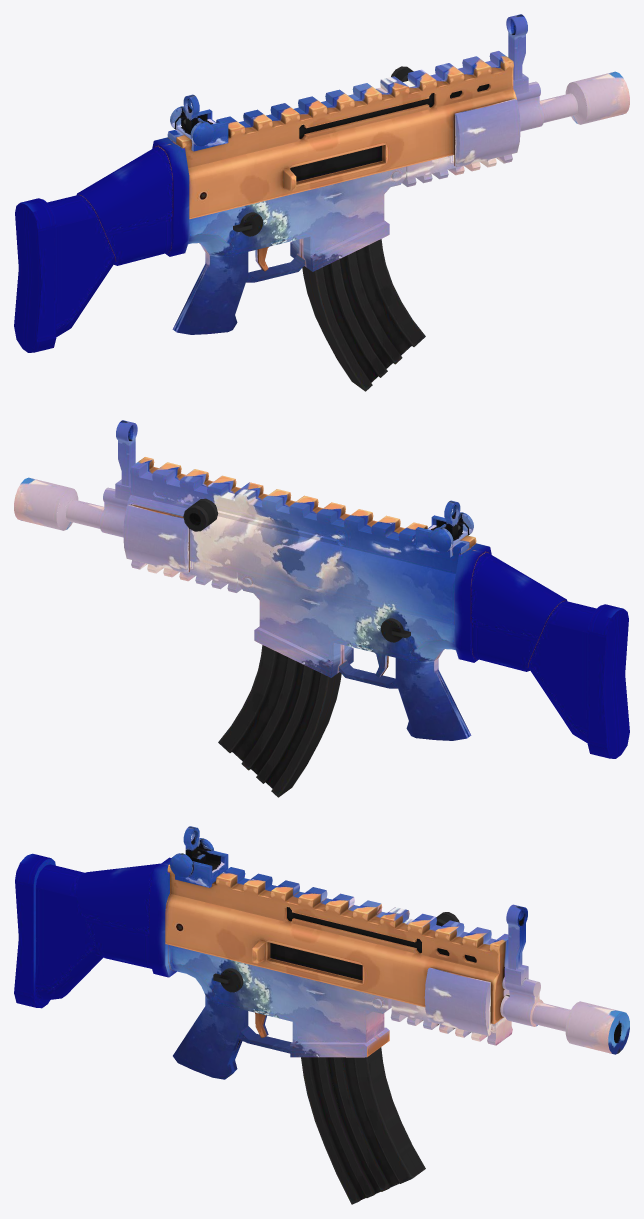
Rendered from Weapon-Scar.glb.
The picture shows the model from 3 angles, top to bottom: view 1: azimuth 30°, elevation 25°; view 2: azimuth 150°, elevation 25°; view 3: azimuth 330°, elevation 25°; orthographic projection.
Parts seen in each view (by area): view 1: Scar, Scar_Magazine; view 2: Scar, Scar_Magazine, Scar_Bolt; view 3: Scar, Scar_Magazine.
Boxes of the visible parts, <box> form: Scar: <box>14,14,629,352</box>; Scar_Magazine: <box>302,239,425,391</box>; Scar: <box>14,420,629,758</box>; Scar_Magazine: <box>218,645,341,797</box>; Scar_Bolt: <box>183,498,218,531</box>; Scar: <box>14,826,629,1079</box>; Scar_Magazine: <box>301,1047,425,1204</box>.
Size of the model in its own units: 9.71 by 5.18 by 1.23.
Materials: 1 (1 with a texture image).
